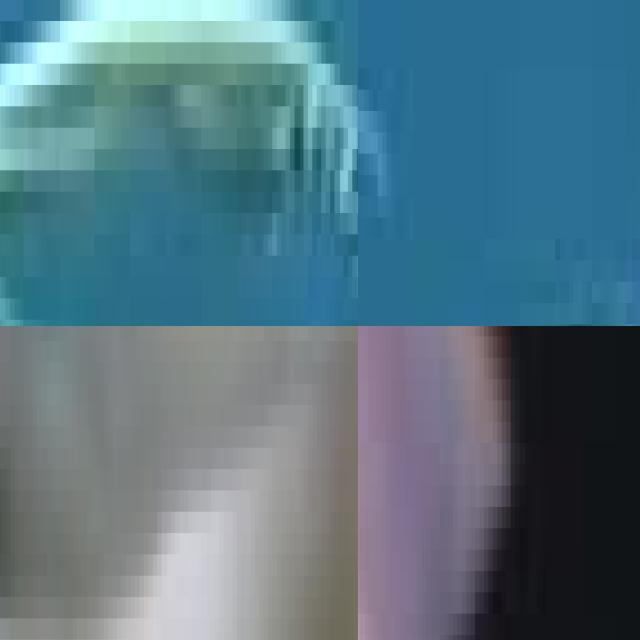fish: (0, 0, 358, 326), (358, 239, 640, 326)
